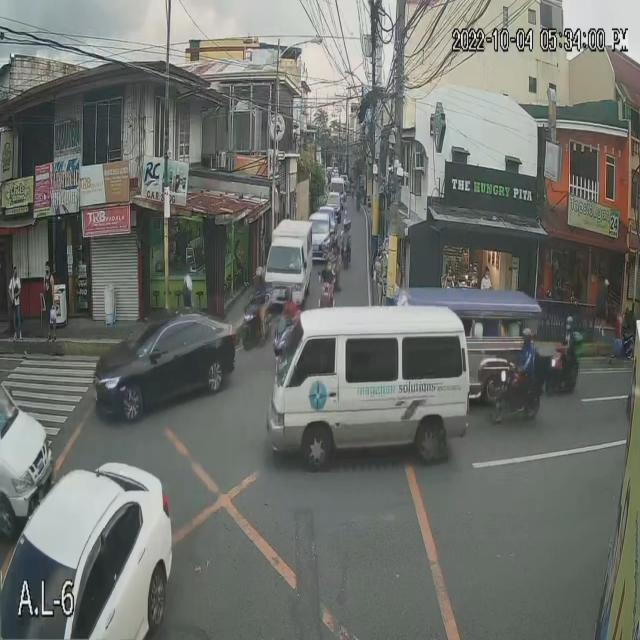Full-Faced: (518, 327, 532, 349), (284, 286, 297, 306), (253, 263, 263, 284)
